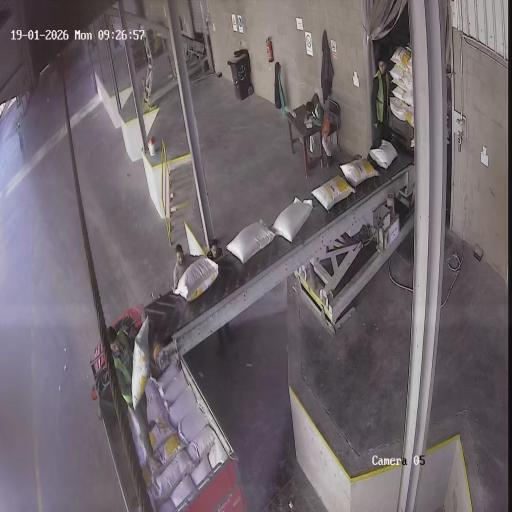c-belt-sack-count: (227, 220, 275, 264), (174, 256, 218, 302), (272, 198, 313, 242), (131, 319, 149, 407), (311, 175, 355, 210), (340, 158, 379, 187), (369, 140, 397, 168)
